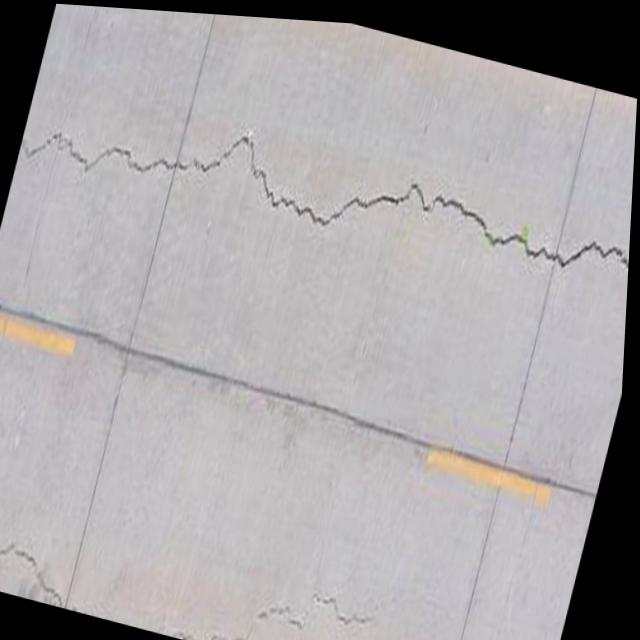Crack: (13, 41, 638, 342)
